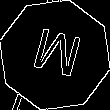M_S: (26, 25, 84, 85)
